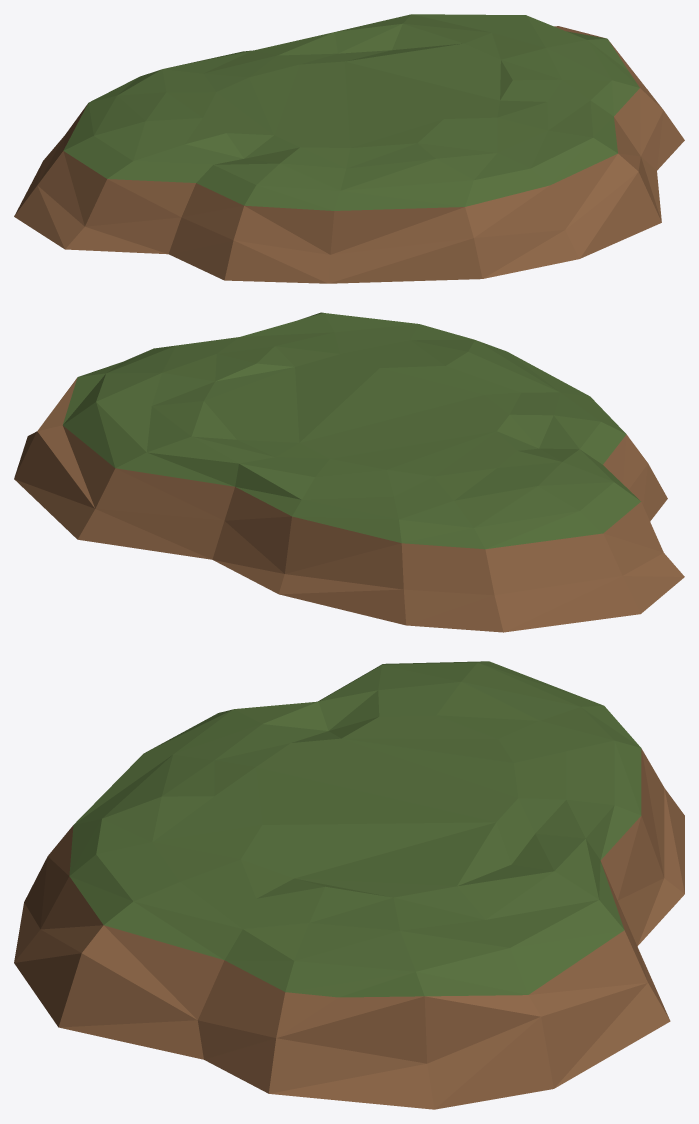
File: Island_1 Asia.fbx
3 renders of one model, top to bottom at view 1: azimuth 30°, elevation 25°; view 2: azimuth 150°, elevation 25°; view 3: azimuth 270°, elevation 25°, orthographic. The views are drawn at different scales.
Parts seen in each view (by area): view 1: Island_1; view 2: Island_1; view 3: Island_1.
Boxes of the visible parts, x1,y1,x2,y2 form: Island_1: (14, 14, 684, 283); Island_1: (14, 312, 684, 632); Island_1: (14, 661, 684, 1109).
Size of the model in its own units: 33.25 by 4.32 by 23.87.
